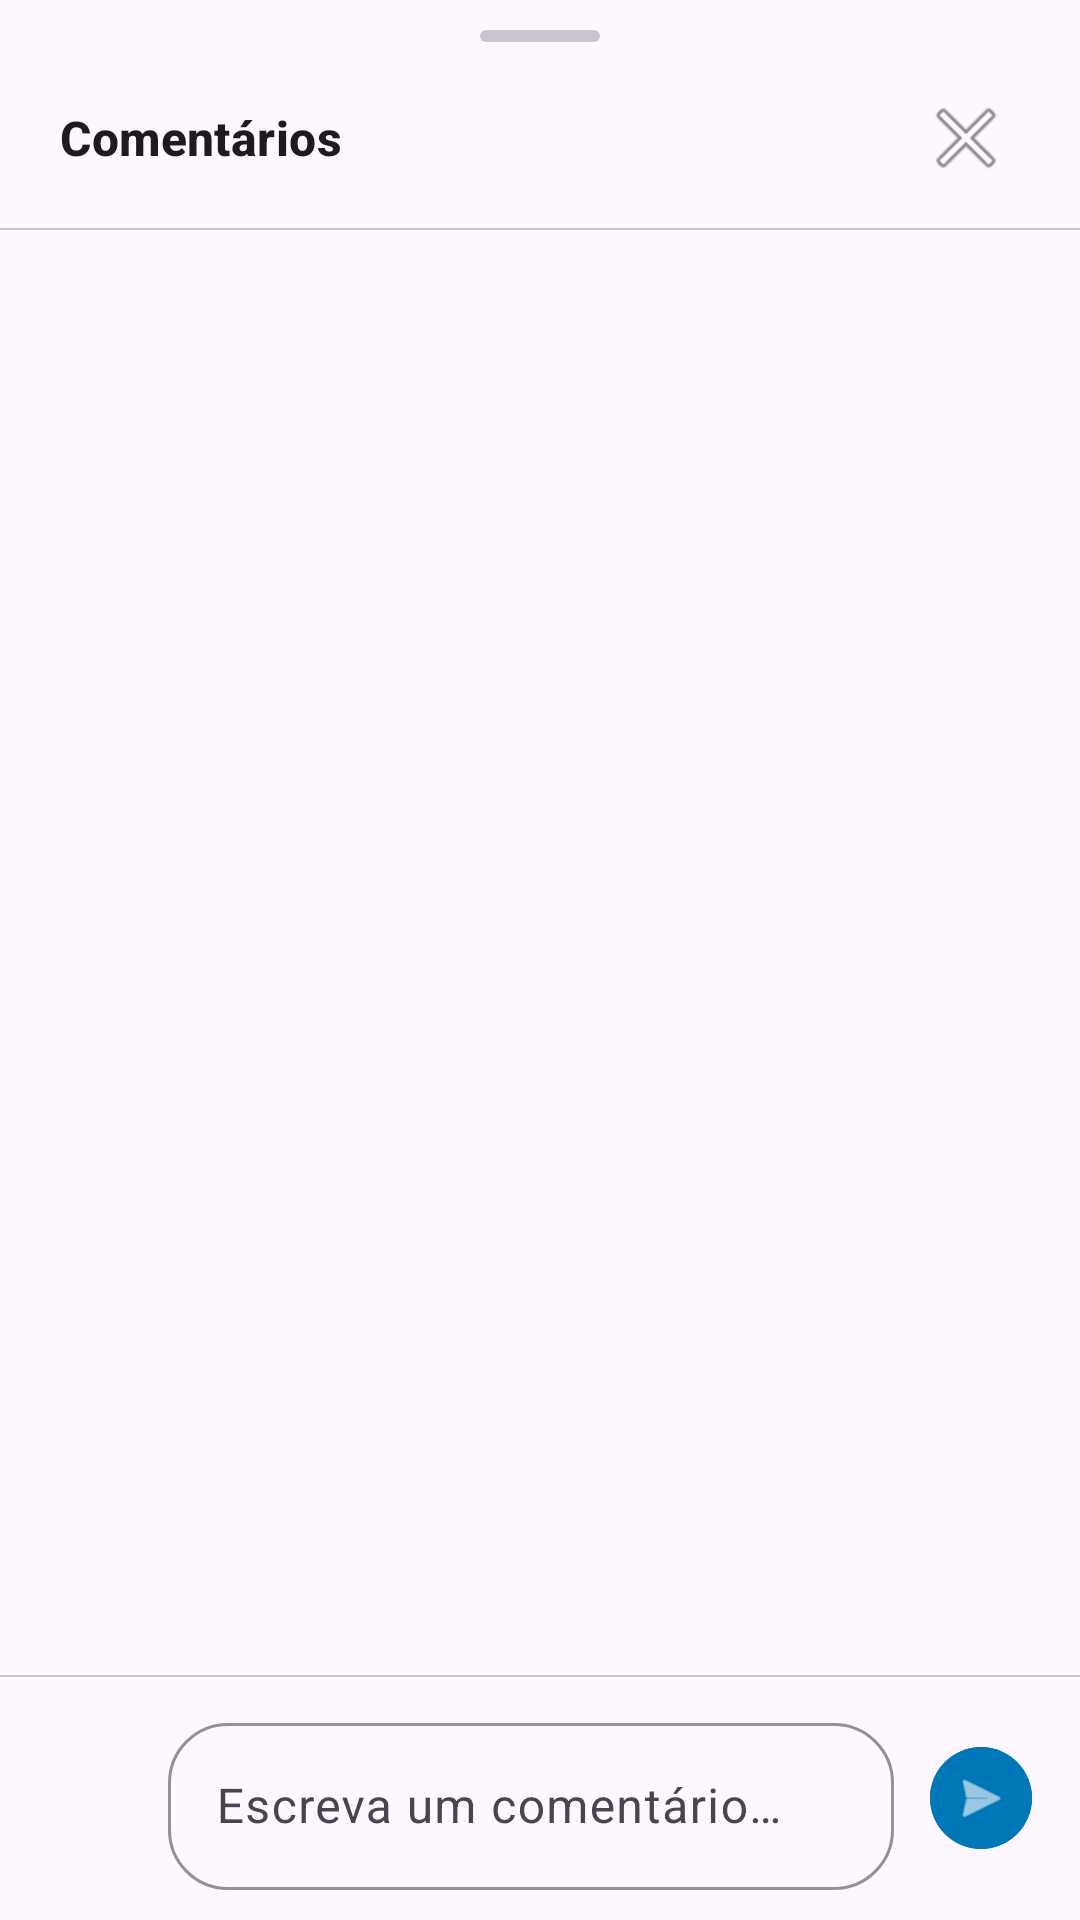

Icon bounding boxes for this 1080px x 1920px phone screenshot, format (x1, y1, x2, y2):
Enviar comentário: (930, 1747, 1032, 1849)
Fechar: (936, 108, 996, 168)
